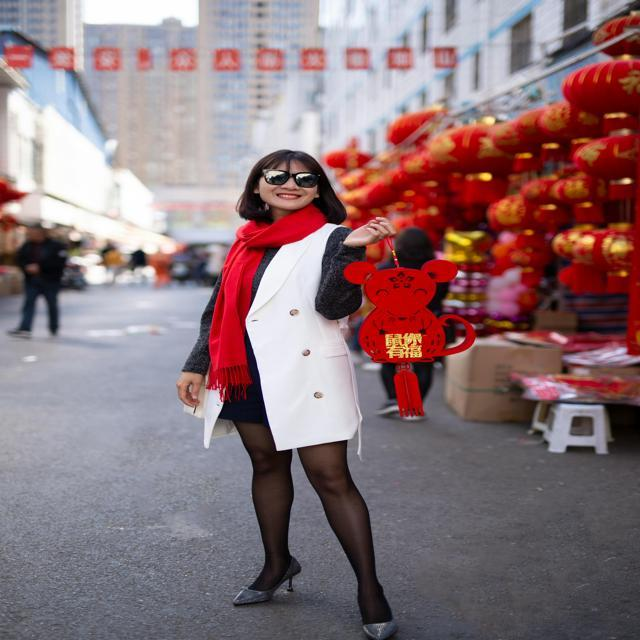2_gafas: (260, 168, 320, 188)
